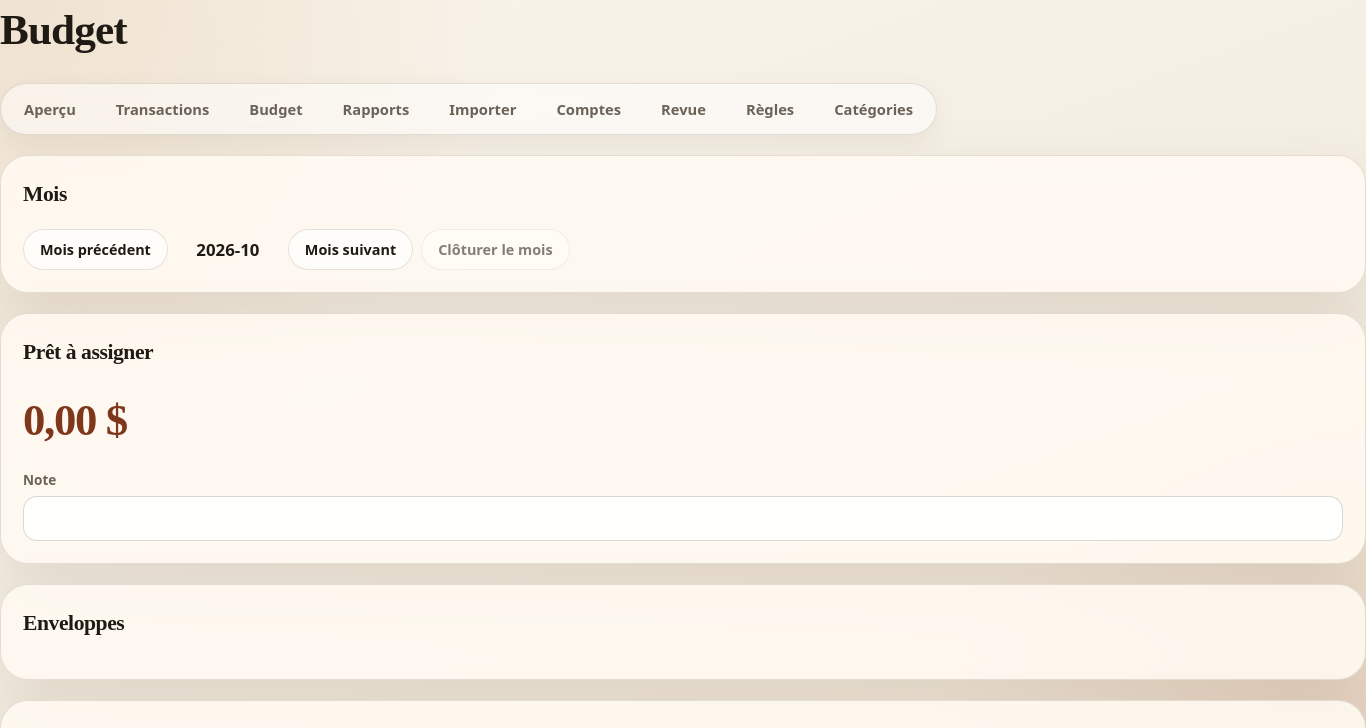
Test: FinanceBudgetPage › does not surface an old-month load failure after a newer month has loaded
Click the button "Mois suivant": (350, 249) [288, 228, 413, 270]
(page scrolled)
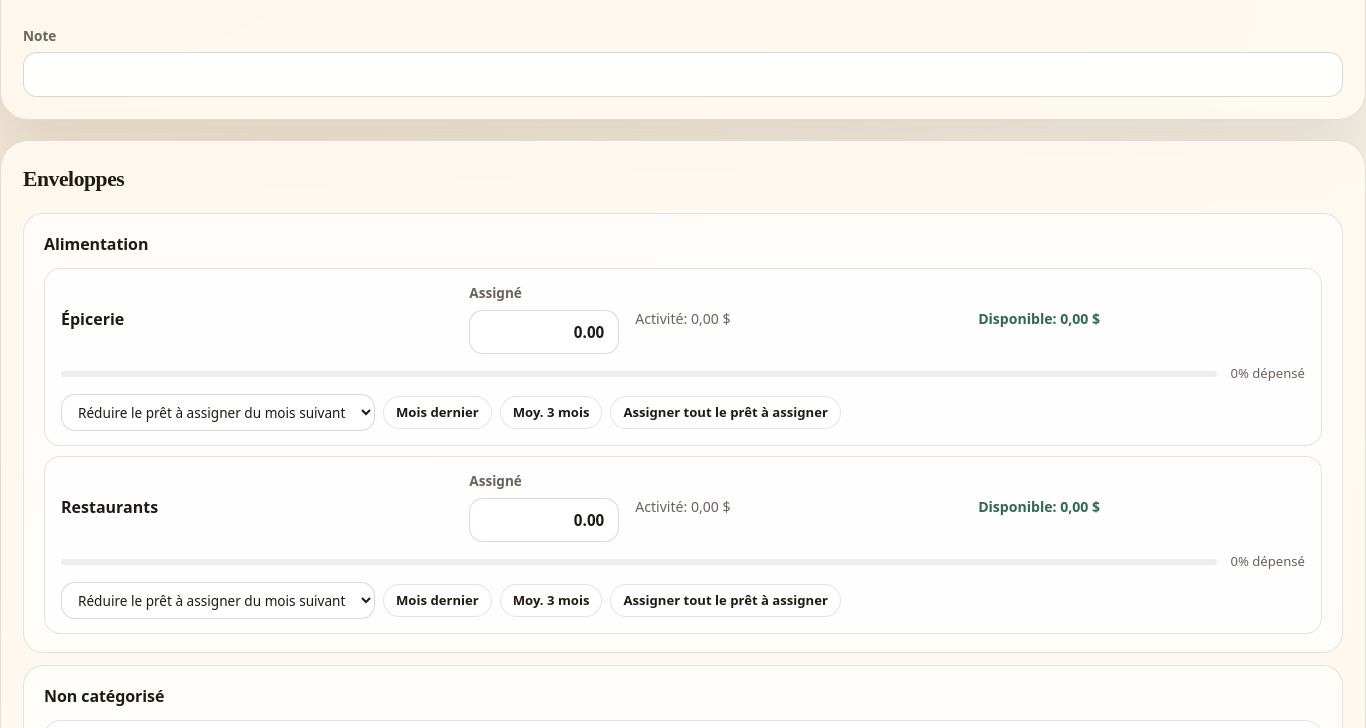
Now the element with test id "budget-row-fincat:alimentation.epicerie" is shown, box [44, 268, 1322, 446]
